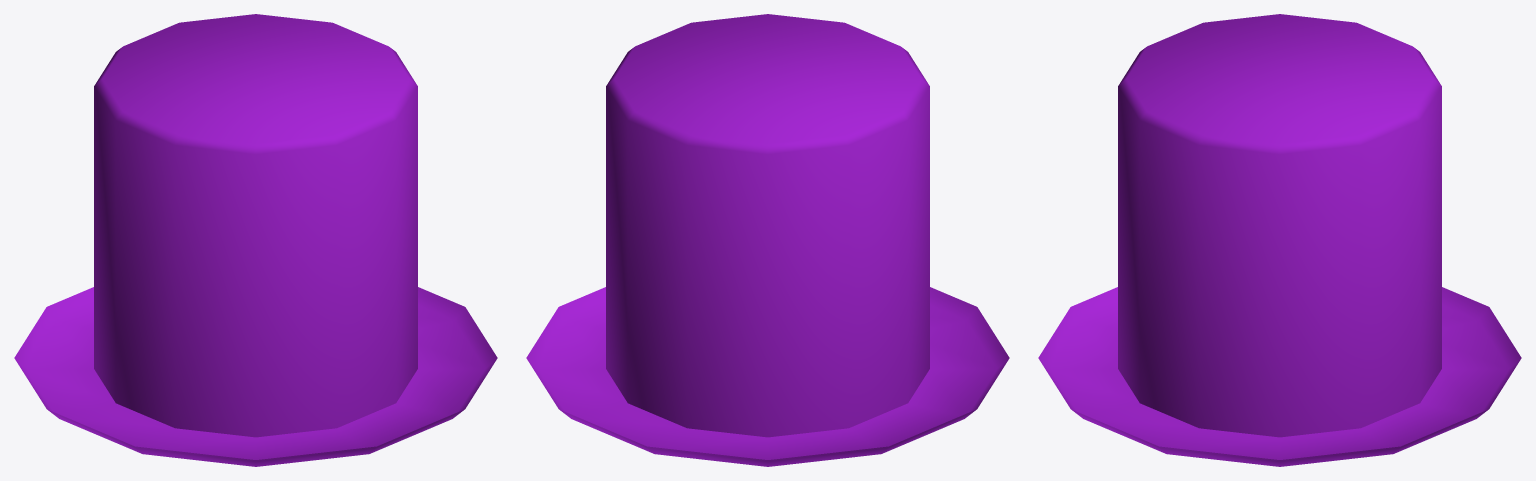
Rendered from shop cont hat 2 lod0.FBX.
3 views of the same model, side by side, from view 1: azimuth 30°, elevation 25°; view 2: azimuth 150°, elevation 25°; view 3: azimuth 270°, elevation 25° (orthographic).
Parts seen in each view (by area): view 1: Cylinder286; view 2: Cylinder286; view 3: Cylinder286.
Boxes of the visible parts, x1,y1,x2,y2 form: Cylinder286: [14, 14, 497, 466]; Cylinder286: [526, 14, 1009, 466]; Cylinder286: [1038, 14, 1521, 466].
Bounding box in the file's own units: 0.4753 × 0.3169 × 0.4753.
